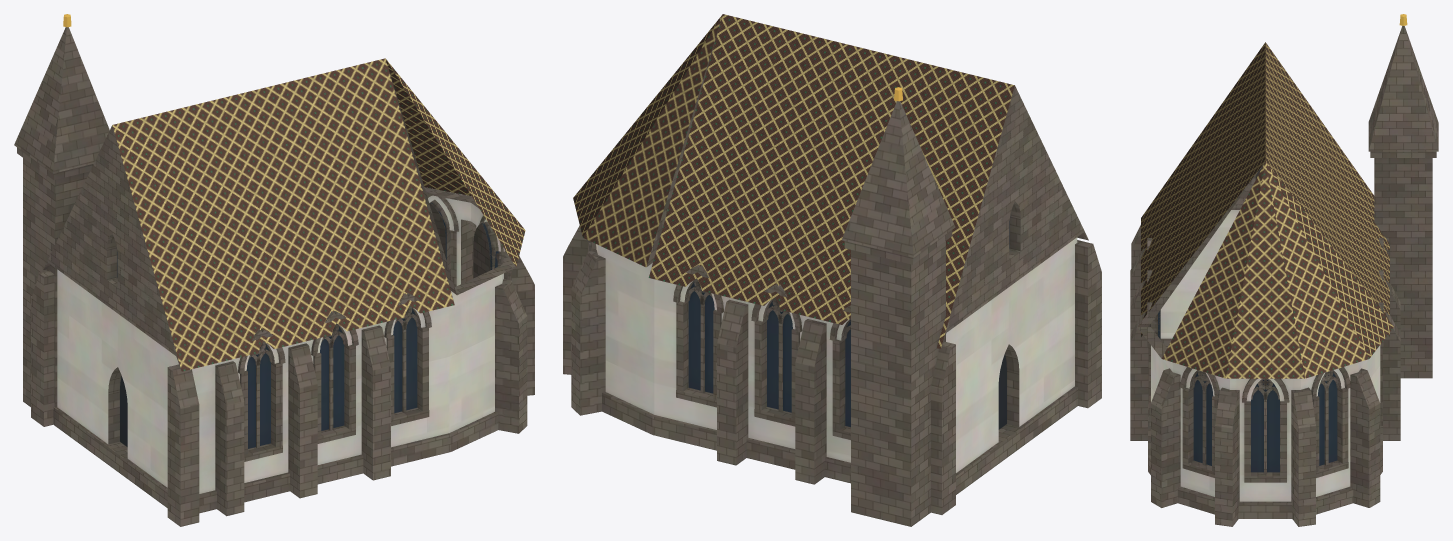
Rendered from chapel.glb.
3 renders of one model, left to right at view 1: azimuth 30°, elevation 25°; view 2: azimuth 150°, elevation 25°; view 3: azimuth 270°, elevation 25°, orthographic. The views are drawn at different scales.
Parts seen in each view (by area): view 1: chapel_LOD0; view 2: chapel_LOD0; view 3: chapel_LOD0.
Part boxes in pixels (<box>): chapel_LOD0: <box>14,14,534,526</box>; chapel_LOD0: <box>563,14,1101,526</box>; chapel_LOD0: <box>1130,14,1438,526</box>.
Size of what is drawn, in the model's own units: 21.66 by 19.95 by 15.85.
Materials: 2 (2 with a texture image).
